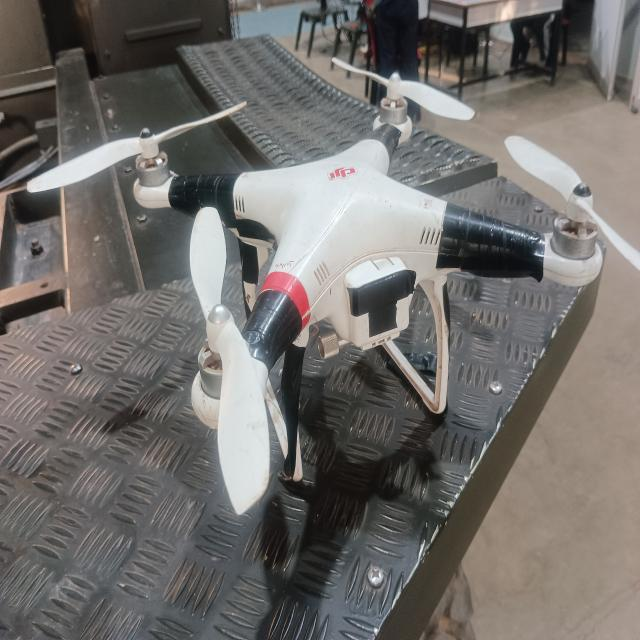drone: (123, 67, 600, 443)
